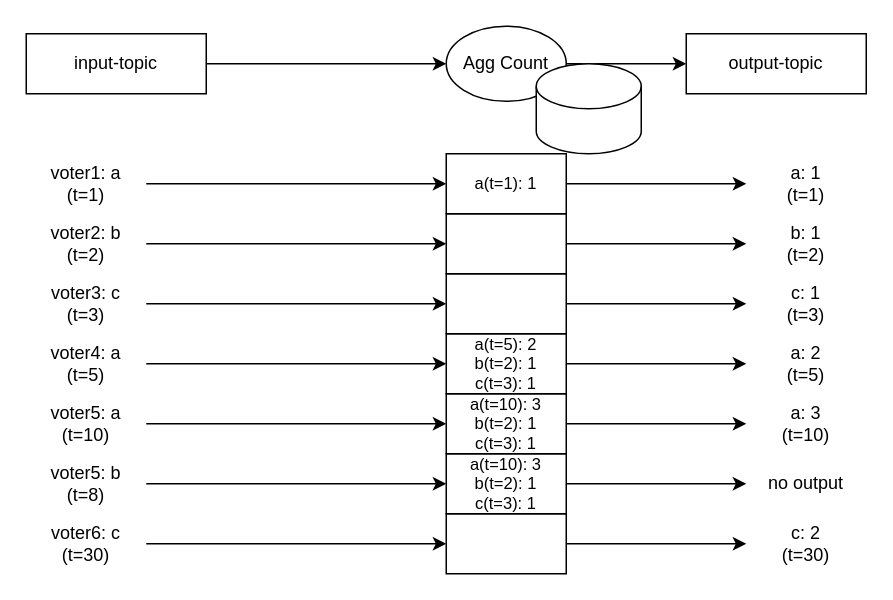
The diagram is 893 pixels wide and 600 high, and some of its shapes have lost their labels. The box of each missing label's shape, as (x1, y1, x2, y2) in pixels:
a(t=1): 1 b(t=2): 1: (445, 212, 566, 274)
a(t=1): 1 b(t=2): 1 c(t=3): 1: (445, 272, 566, 334)
a(t=10): 3 b(t=2): 1 c(t=30): 2: (445, 512, 566, 574)
VersionedStore: (535, 62, 641, 154)
